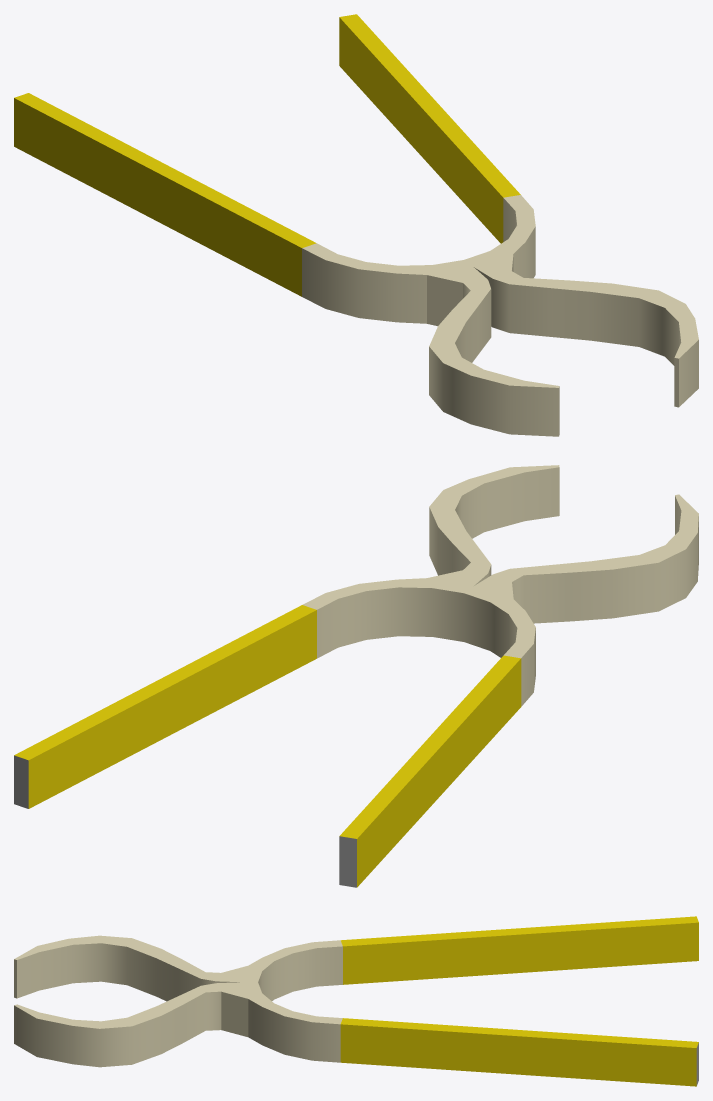
Rendered from Outil_Pince.fbx.
The picture shows the model from 3 angles, top to bottom: view 1: azimuth 30°, elevation 25°; view 2: azimuth 150°, elevation 25°; view 3: azimuth 270°, elevation 25°; orthographic projection. The views are drawn at different scales.
Visible parts, largest first — view 1: outils03:pCylinder1; view 2: outils03:pCylinder1; view 3: outils03:pCylinder1.
Part boxes in pixels (x1,y1,x2,y2): outils03:pCylinder1: [14, 14, 698, 436]; outils03:pCylinder1: [14, 465, 698, 887]; outils03:pCylinder1: [14, 916, 698, 1086].
Bounding box in the file's own units: 0.7353 × 0.1 × 1.62.
